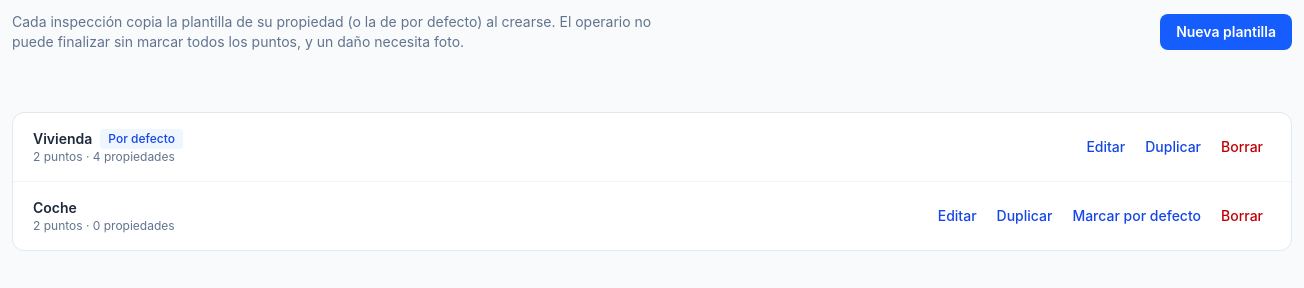
Test: PlantillasPanel: avisos › confirma lo hecho
The width and height of the screenshot is (1304, 288).
Click the button "Duplicar" in the row of "Coche" at {"x": 1024, "y": 216}, box [988,198,1060,234]
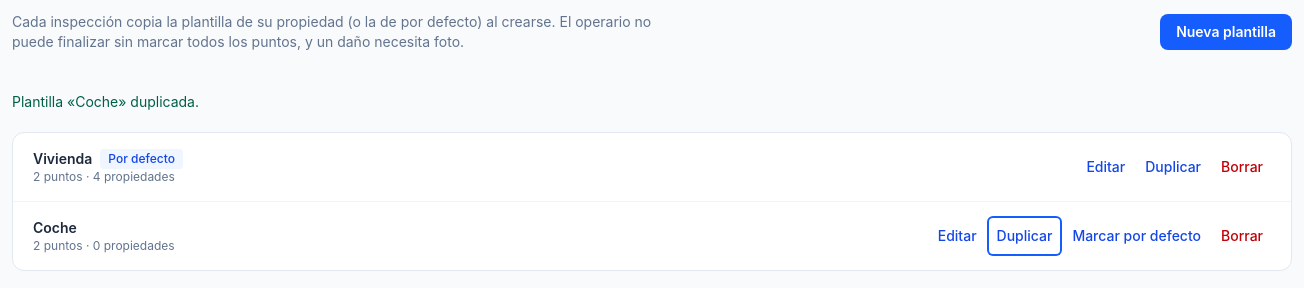
Result: the text "Plantilla «Coche» duplicada." is shown at [12,93,199,110]
